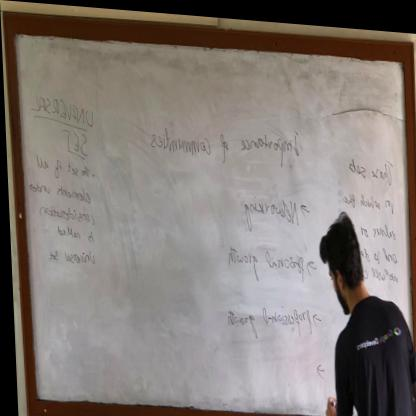Handwritten text: (145, 107, 303, 168), (223, 296, 312, 346), (222, 233, 306, 283), (235, 186, 300, 230), (27, 90, 96, 126), (340, 143, 395, 180), (339, 180, 394, 212), (33, 152, 94, 180), (39, 244, 97, 272), (26, 178, 93, 202), (36, 202, 96, 226), (52, 220, 96, 244), (358, 212, 399, 237), (368, 236, 400, 262), (59, 127, 90, 150)
Lecturer: (309, 197, 404, 416)
Whiteboard: (10, 25, 416, 416)
